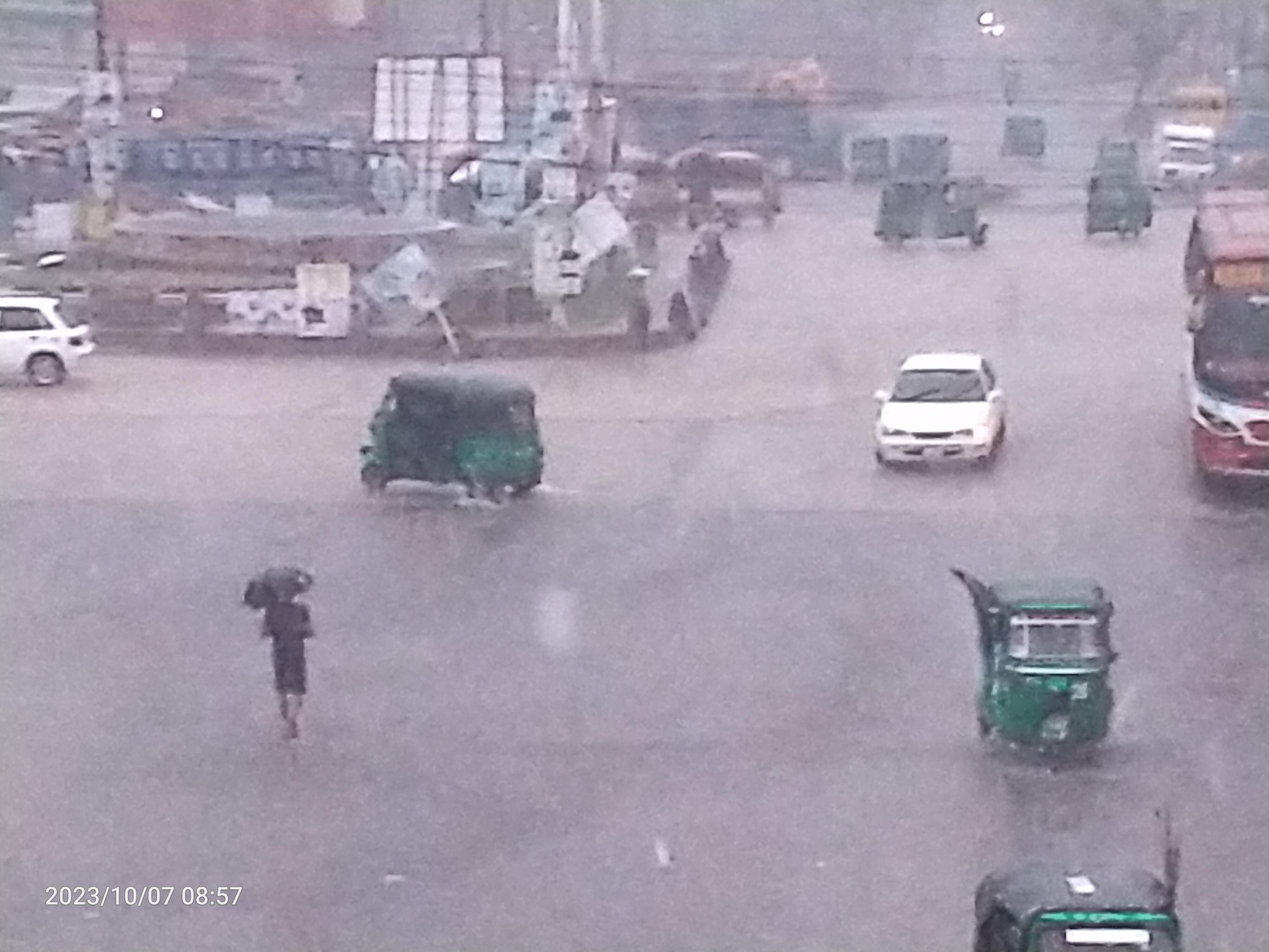Bus: (24, 104, 391, 249), (1153, 169, 1269, 513)
Car: (811, 314, 1055, 505), (0, 258, 141, 405), (1141, 101, 1225, 201)
